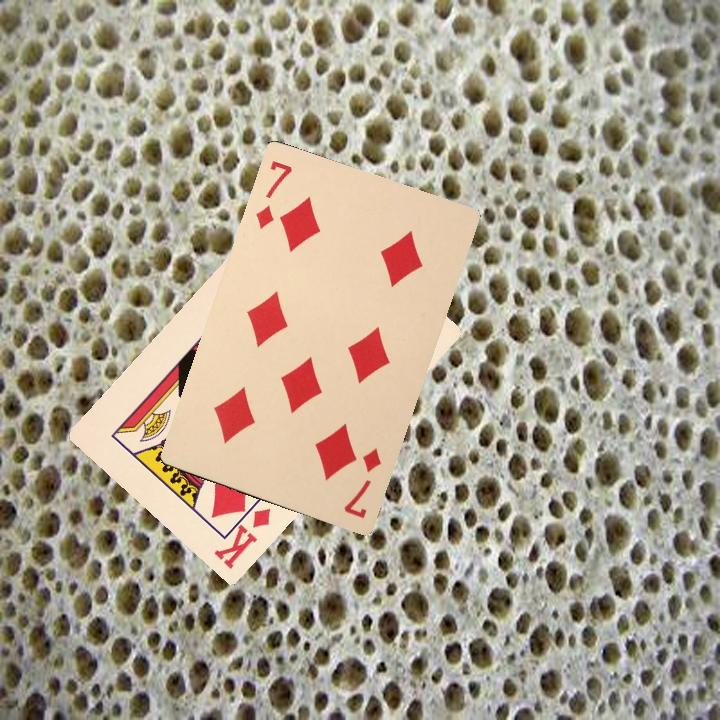7d: (339, 443, 384, 522), (251, 156, 295, 232)
Kd: (209, 490, 274, 572)
